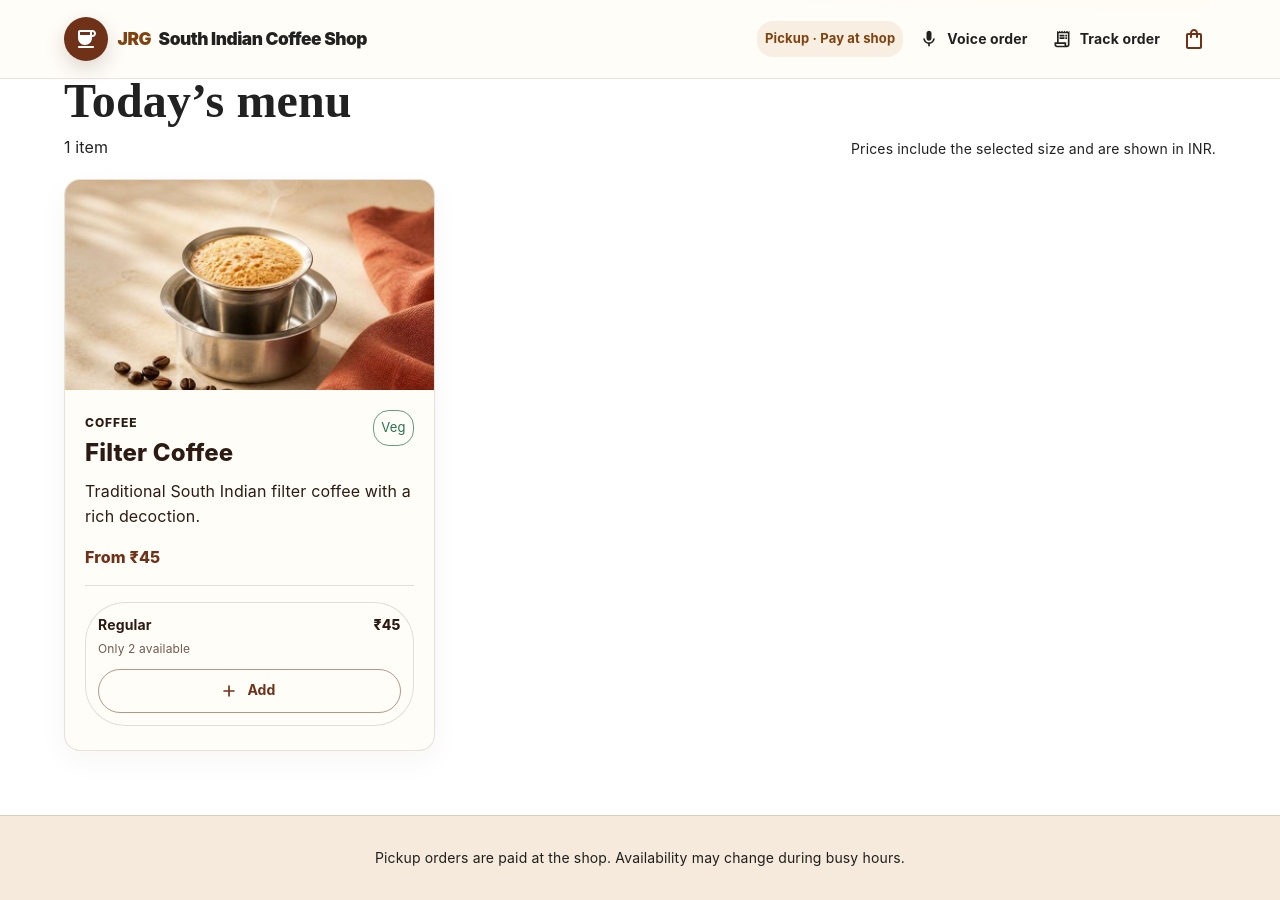
Test: customer menu › shows per-item quantities, explains the stock limit, and removes the last unit
(page scrolled)
Click the button with aria-label "Add Filter Coffee Regular to cart".
click(249, 691)  # box [98, 669, 401, 713]
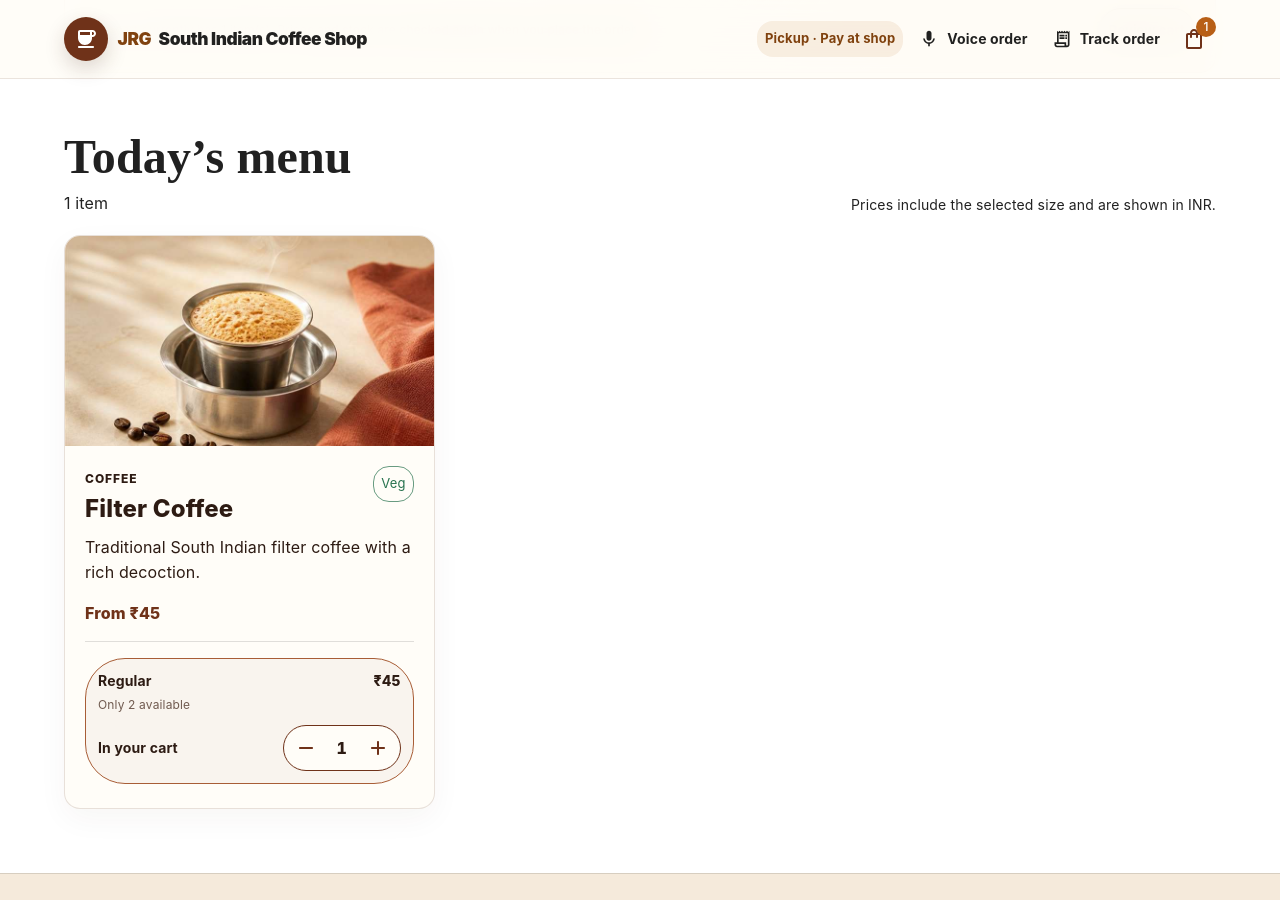
Click the button named "Increase Filter Coffee Regular quantity".
click(378, 748)  # box [356, 726, 400, 770]
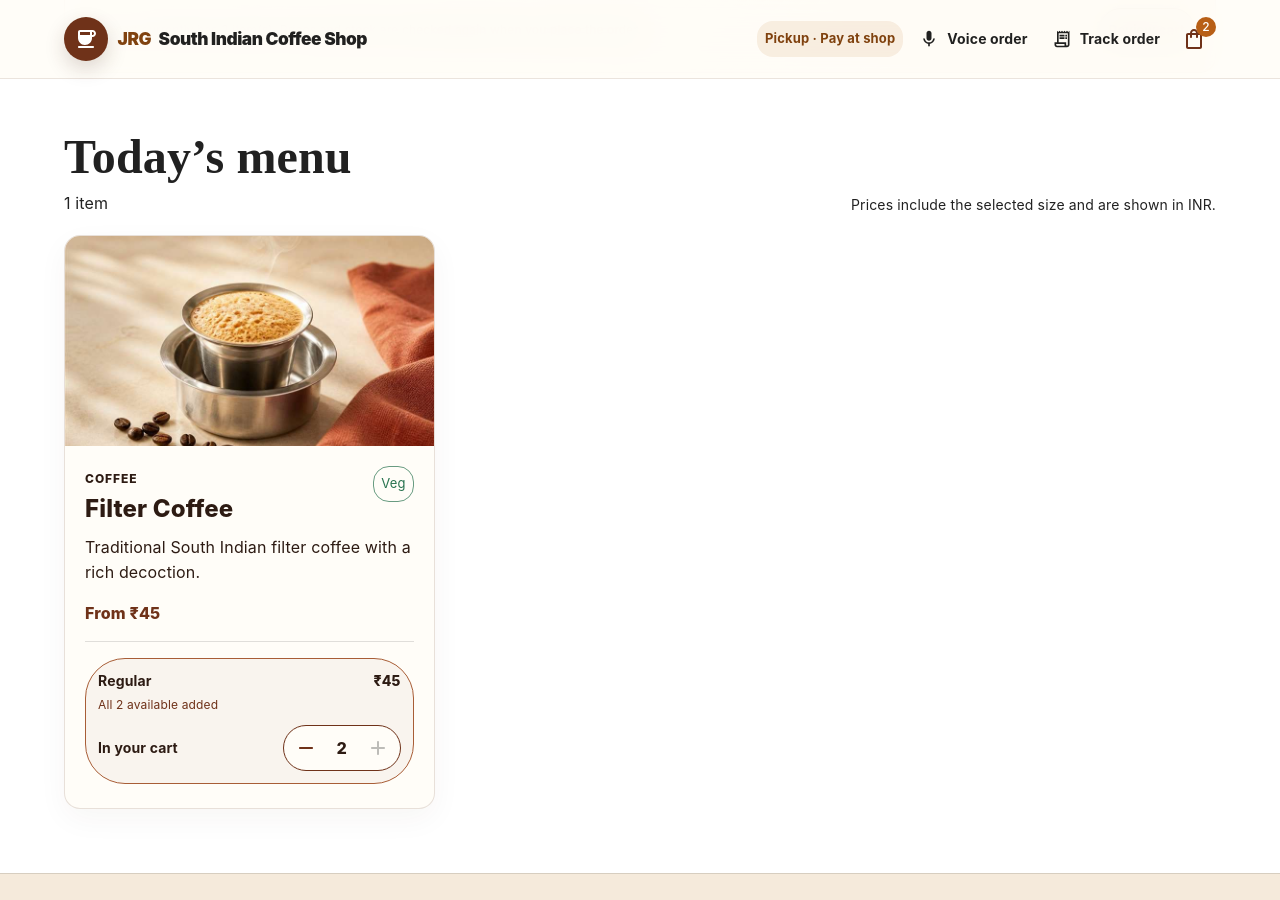
Expected: the text named "Filter Coffee Regular quantity in cart" reads "2", [336, 738, 347, 758]
Expected: the link named "Cart with 2 items" is shown, [1182, 17, 1216, 51]
Expected: the text "All 2 available added" is shown, [98, 697, 218, 712]
Click the button named "Decrease Filter Coffee Regular quantity".
click(306, 748)  # box [284, 726, 328, 770]
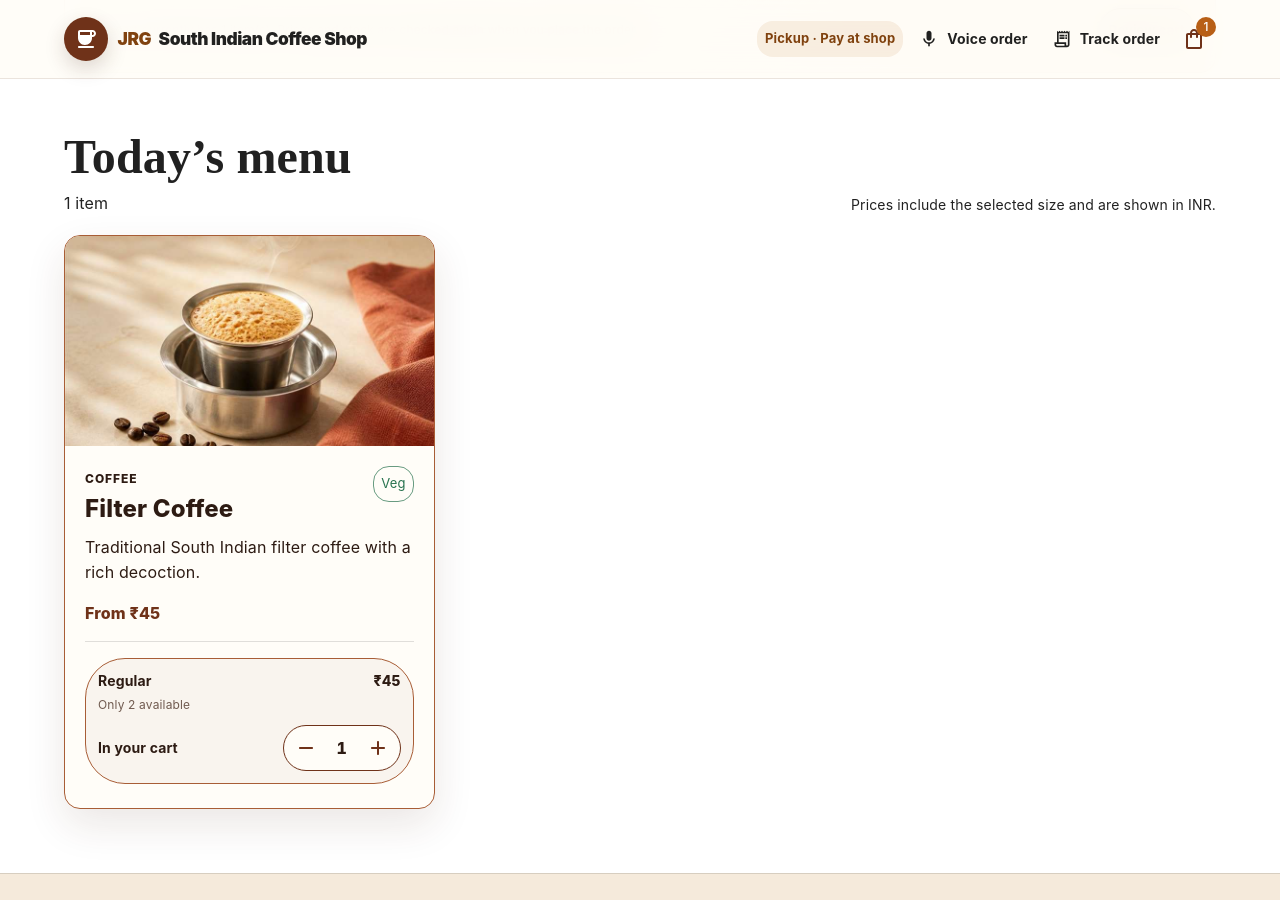
Click the button named "Decrease Filter Coffee Regular quantity".
click(306, 748)  # box [284, 726, 328, 770]
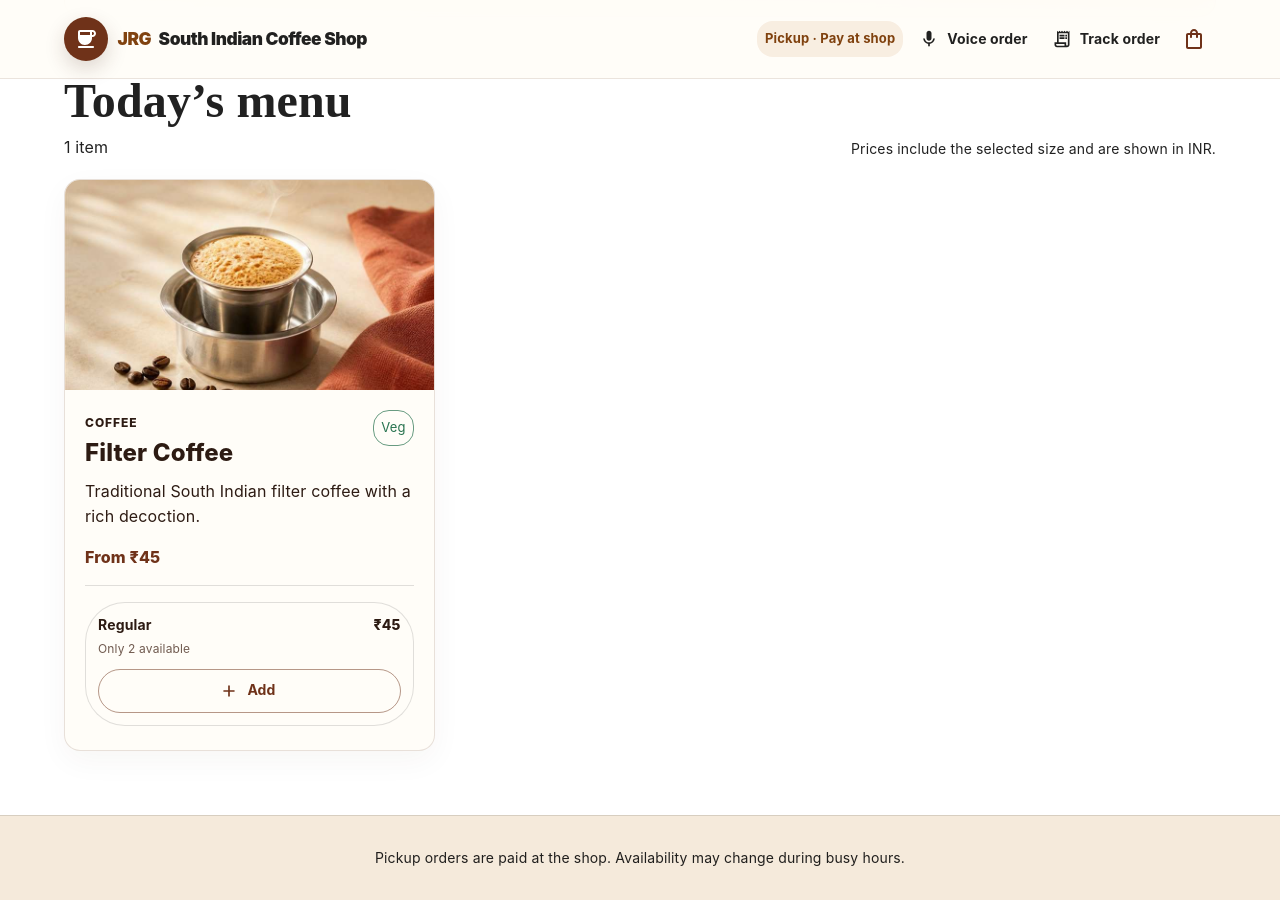
Expected: the button with aria-label "Add Filter Coffee Regular to cart" is enabled, [98, 669, 401, 713]
Expected: the link named "Cart with 0 items" is shown, [1182, 27, 1206, 51]
